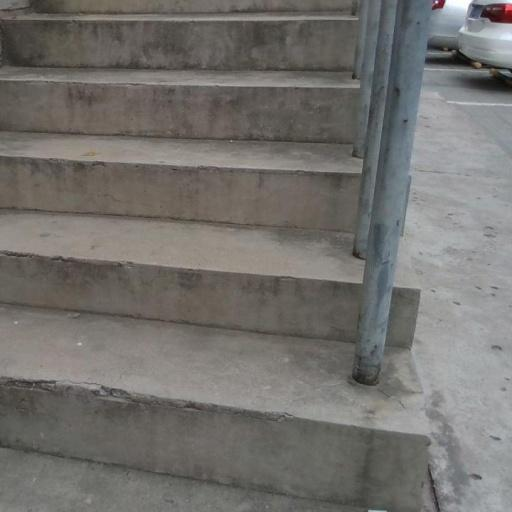stairs: (0, 0, 427, 511)
